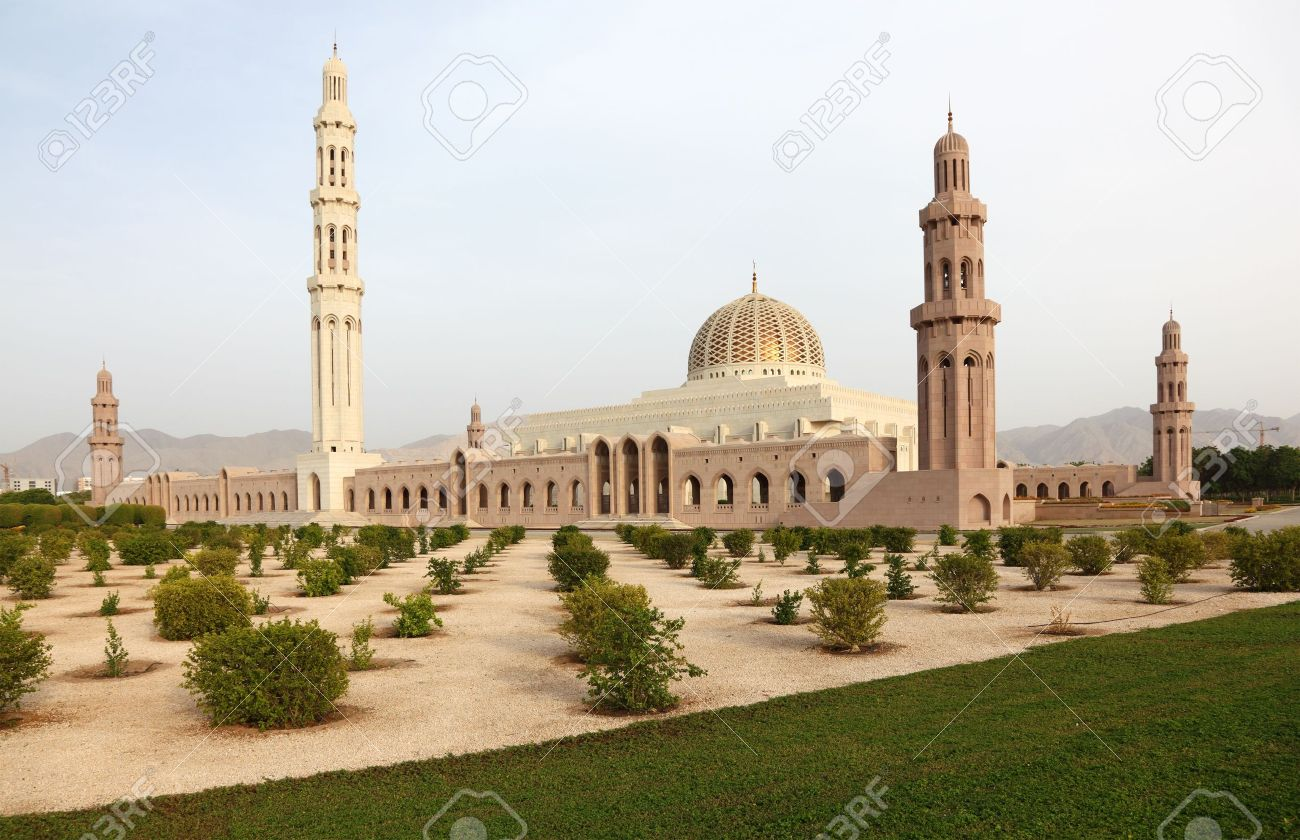Mosque: (69, 20, 1195, 567)
